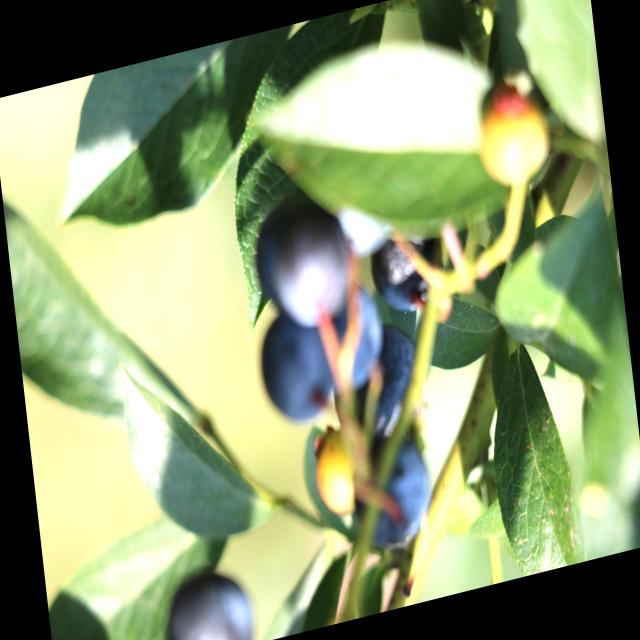blueberry: (245, 181, 359, 341), (346, 306, 438, 456), (253, 305, 339, 430), (346, 442, 437, 556), (317, 274, 395, 404), (366, 213, 455, 318), (164, 555, 262, 640)
blueberry-unripe: (476, 89, 550, 191), (308, 422, 370, 520)
